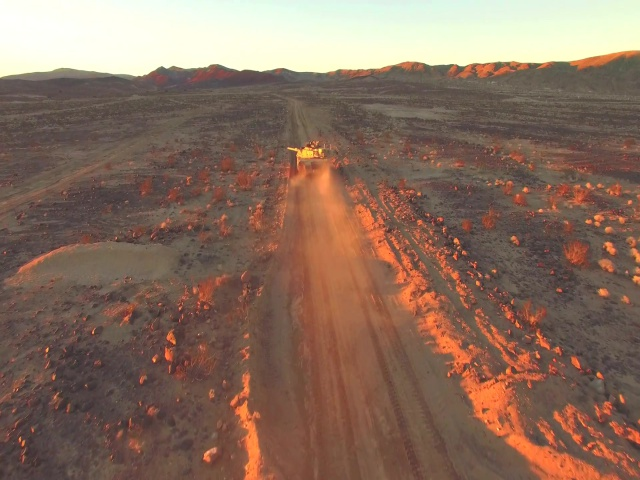vehicle: (292, 141, 342, 174)
